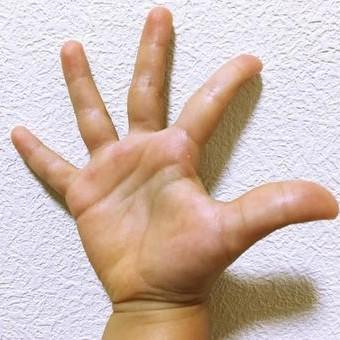pa-: (9, 6, 340, 296)
